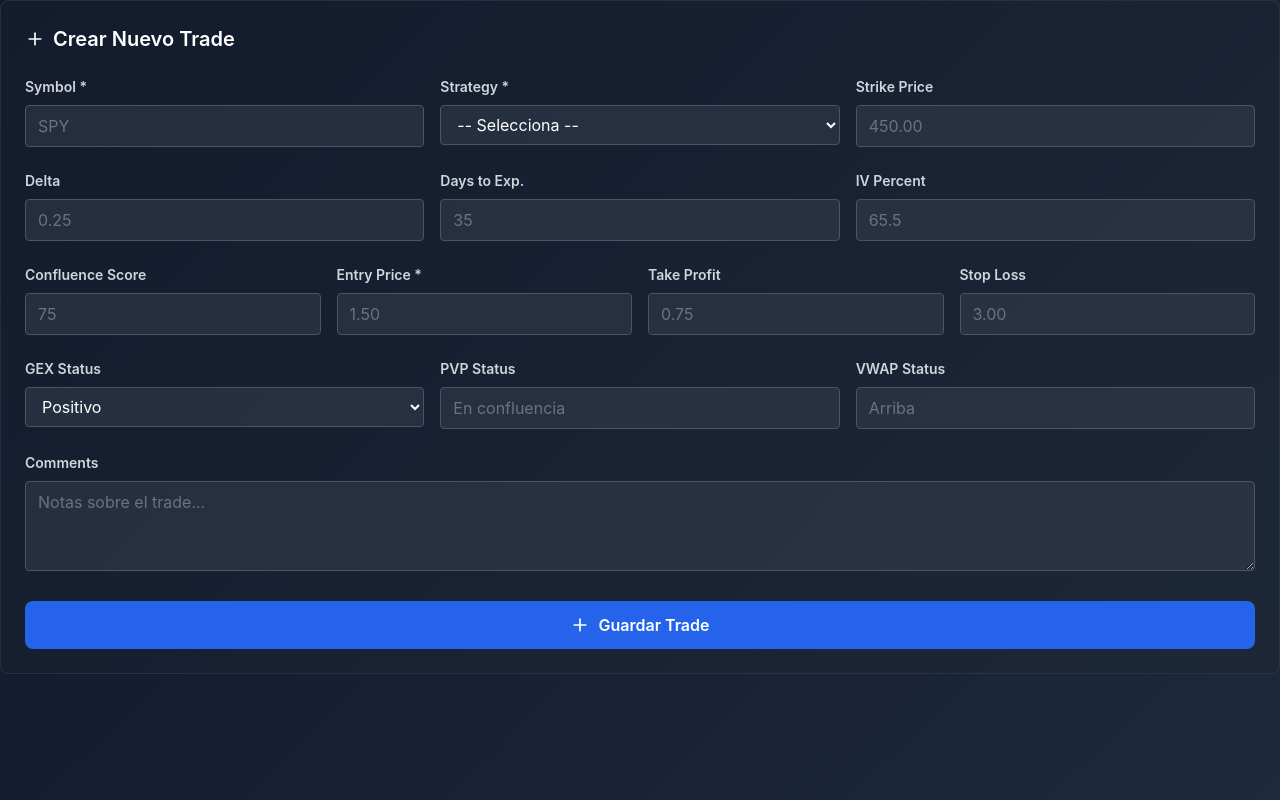
Test: TradeInputForm Component › Form Reset & Success Message › should show success message after submission
The width and height of the screenshot is (1280, 800).
Type "TSLA" into the field labelled "Symbol *" at (225, 126), box [25,105,424,147]
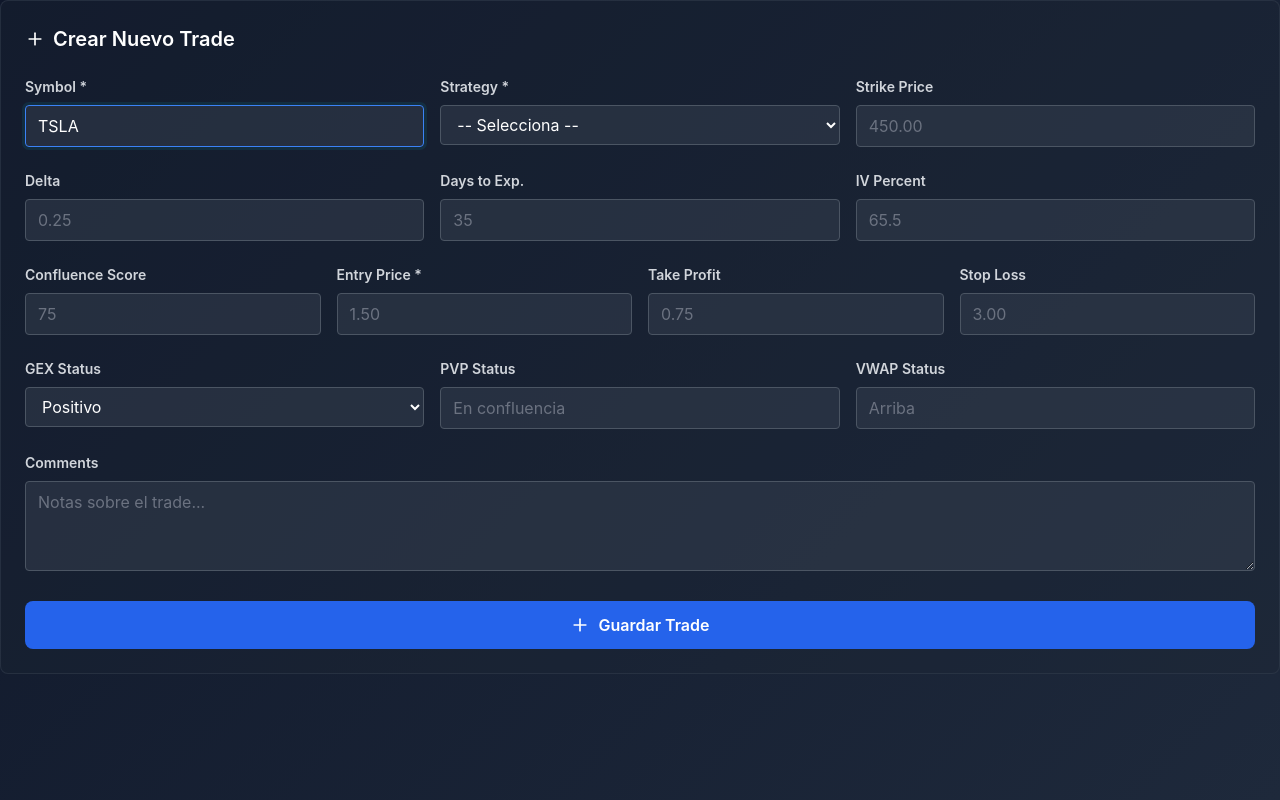
Select "Iron Condor" in the dropdown labelled "Strategy *" at (640, 125), box [440,105,840,145]
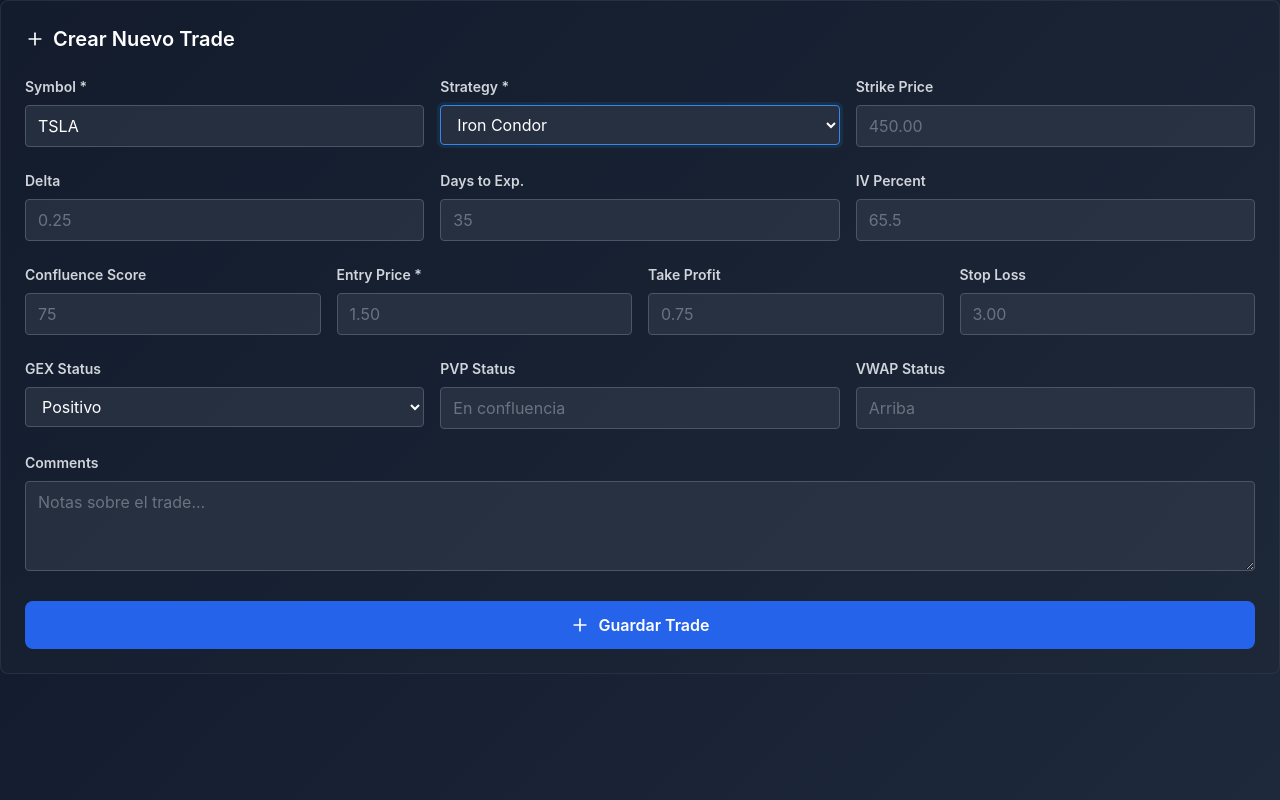
Type "2.50" into the number field labelled "Entry Price *" at (484, 314), box [336,293,632,335]
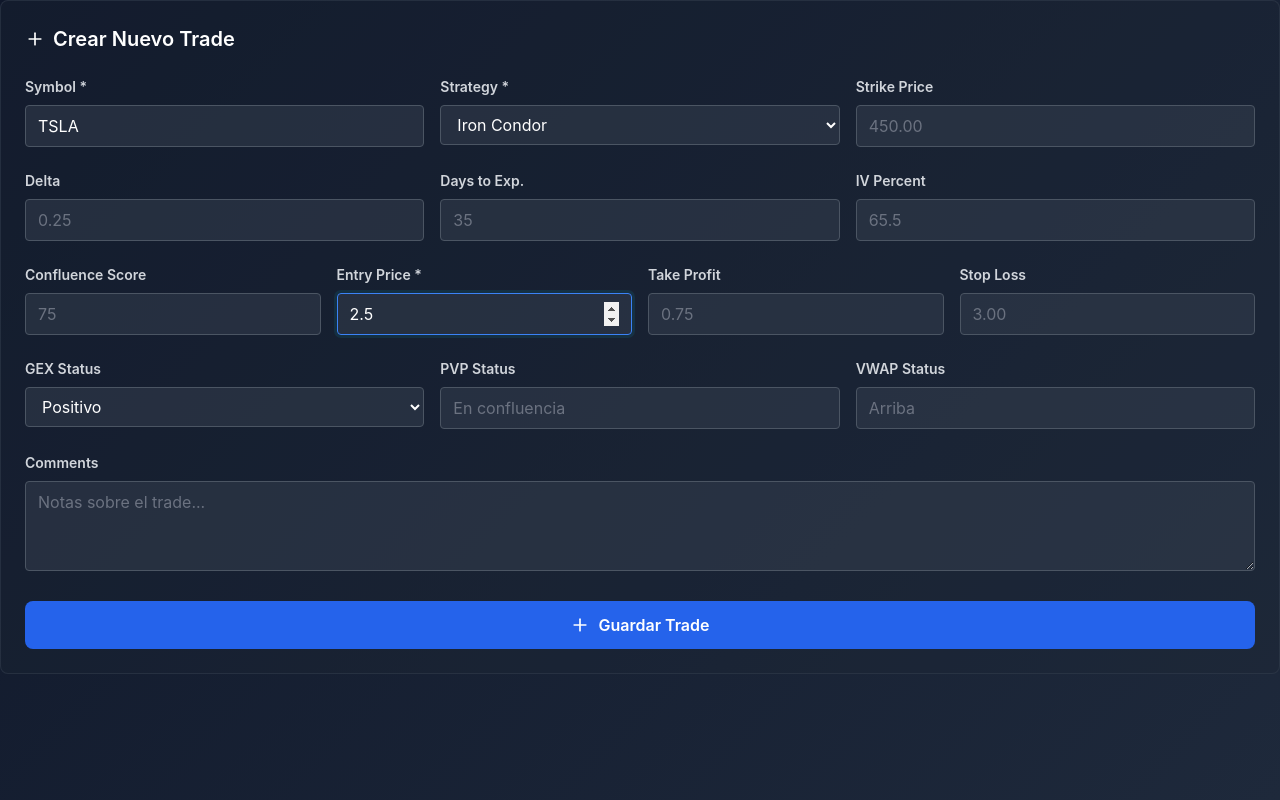
Click the button "Guardar Trade" at (640, 625), box [25,601,1255,649]
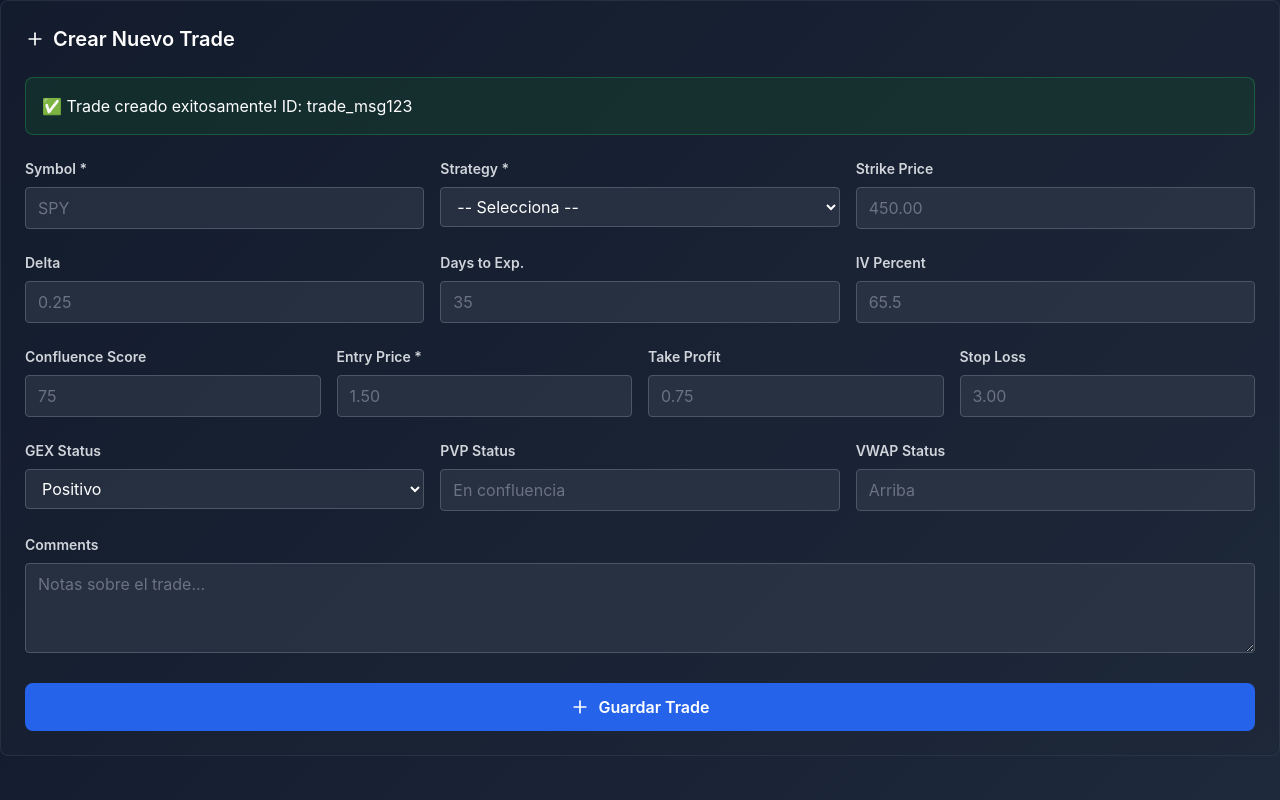
Check: the text "✅ Trade creado exitosamente! ID: trade_msg123" is shown, box [25,77,1255,135]
